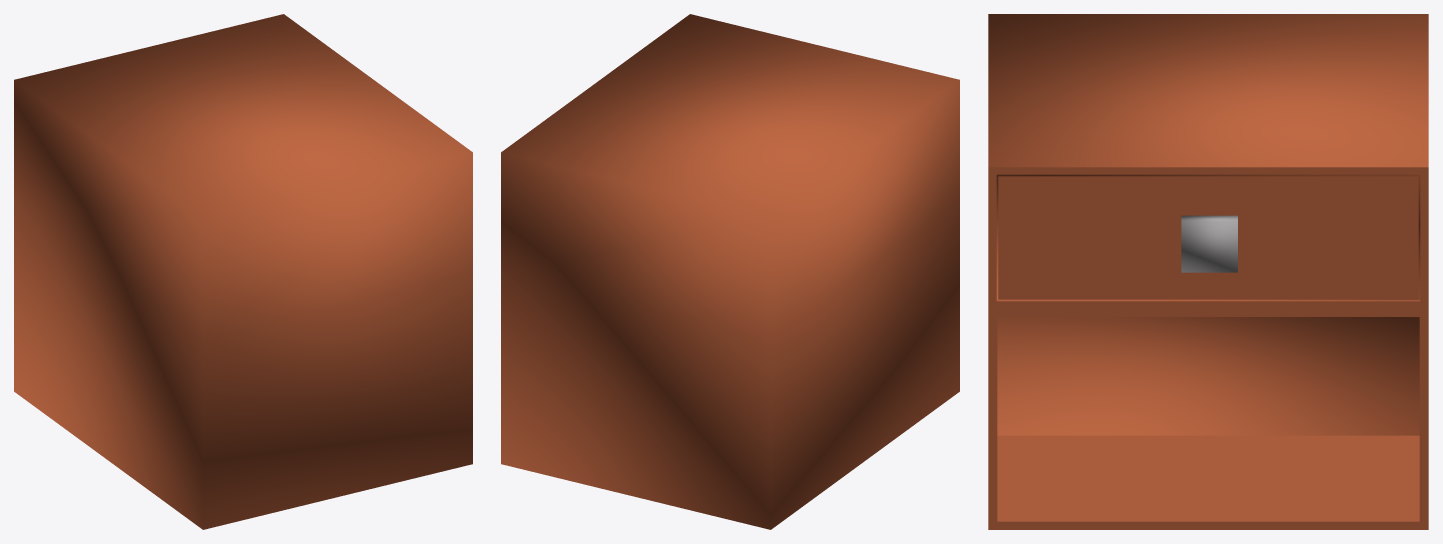
Rendered from wardrobe_small.obj.
3 views of the same model, side by side, from view 1: azimuth 30°, elevation 25°; view 2: azimuth 150°, elevation 25°; view 3: azimuth 270°, elevation 25° (orthographic). The views are drawn at different scales.
Visible parts, largest first — view 1: WardrobeSmall_bedroom.028; view 2: WardrobeSmall_bedroom.028; view 3: WardrobeSmall_bedroom.028.
Boxes of the visible parts, x1,y1,x2,y2 form: WardrobeSmall_bedroom.028: (14,14,472,529); WardrobeSmall_bedroom.028: (501,14,959,529); WardrobeSmall_bedroom.028: (988,14,1428,529).
Bounding box in the file's own units: 0.7411 × 0.752 × 0.8269.
2 materials, 2 textured.
